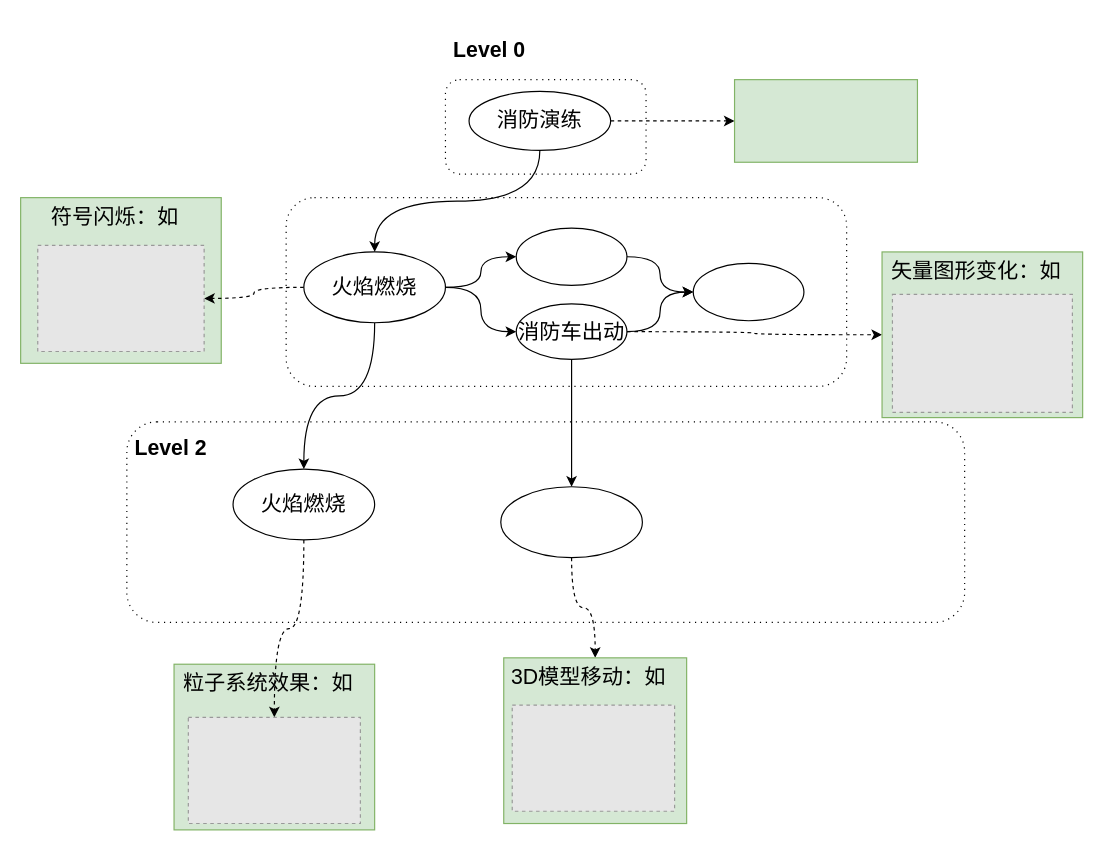
The diagram is 1103 pixels wide and 851 high, and some of its shapes have lost their labels. Grey dashed boxes stand in for pictures. The box of each missing label's shape, as (x1, y1, x2, y2) in pixels:
Level 1: (285, 196, 847, 386)
人员疏散: (515, 227, 627, 285)
文本闪烁：如 消防演练: (733, 78, 917, 162)
消防车移动: (500, 486, 642, 558)
灭火成功: (692, 262, 804, 321)
